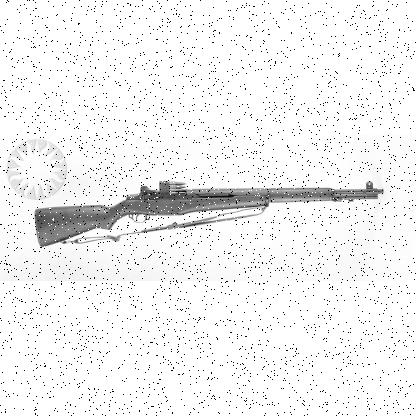gun: (35, 180, 383, 244)
